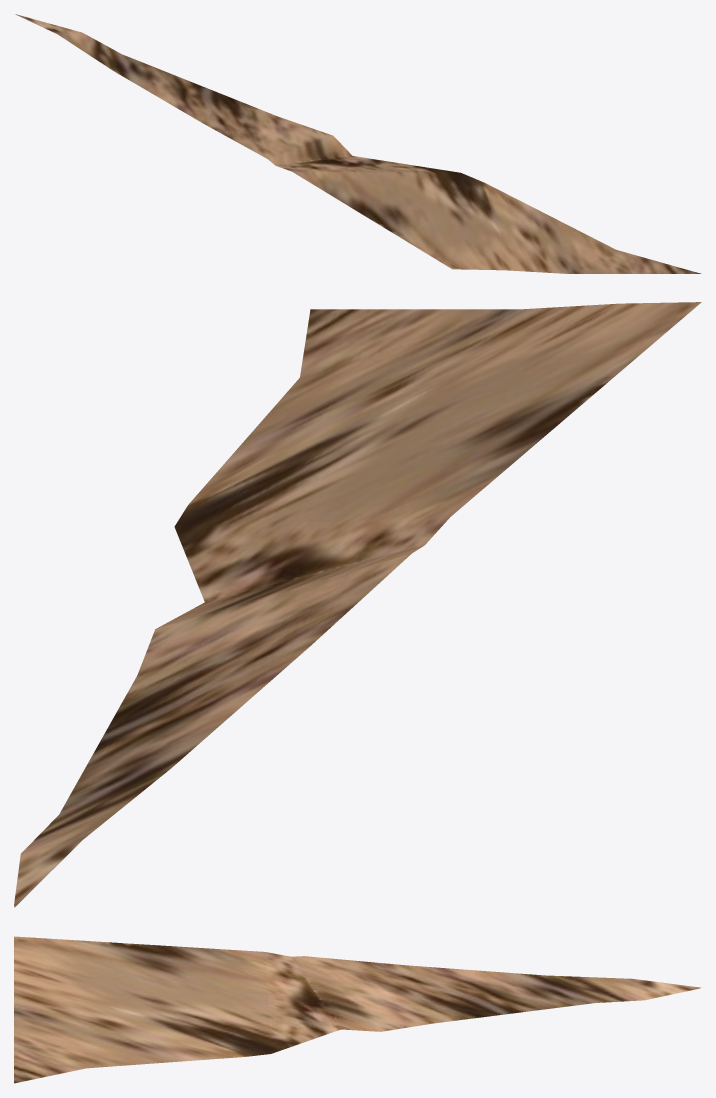
3 views of the same model, one above another, from view 1: azimuth 30°, elevation 25°; view 2: azimuth 150°, elevation 25°; view 3: azimuth 270°, elevation 25° (orthographic). The views are drawn at different scales.
Size of the model in its own units: 0.9383 by 0.2353 by 2.85.
1 material, 1 textured.
